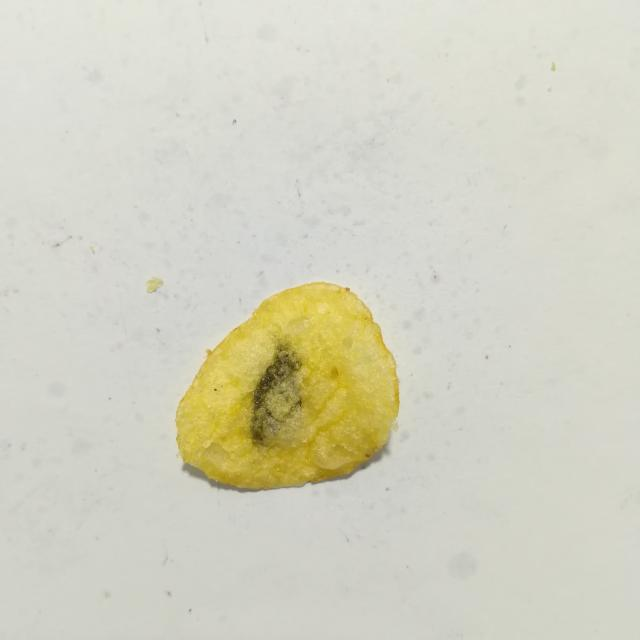chip: (176, 283, 399, 489)
semi-damaged: (250, 344, 303, 447)
